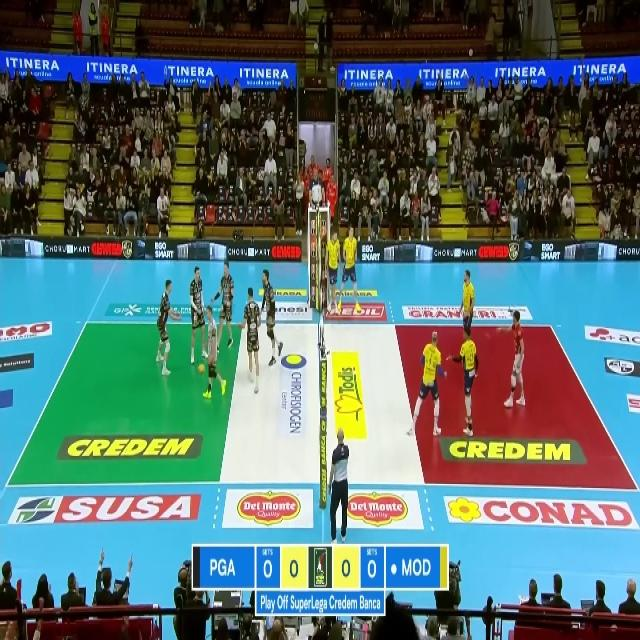volleyball court: (5, 323, 635, 488)
